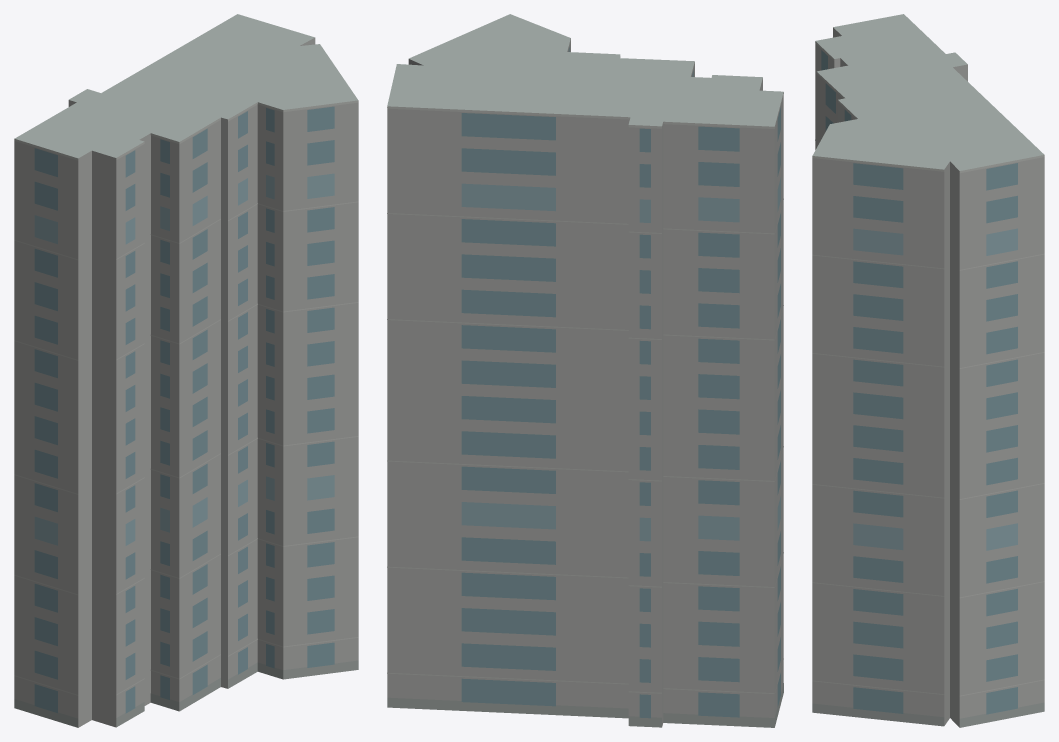
File: survey-upis-32502798.glb
3 renders of one model, left to right at view 1: azimuth 30°, elevation 25°; view 2: azimuth 150°, elevation 25°; view 3: azimuth 270°, elevation 25°, orthographic. The views are drawn at different scales.
Visible parts, largest first — view 1: survey-upis-32502798.tmp; view 2: survey-upis-32502798.tmp; view 3: survey-upis-32502798.tmp.
Boxes of the visible parts, box(x1,y1,x2,y2) form: survey-upis-32502798.tmp: box(14, 14, 358, 727); survey-upis-32502798.tmp: box(387, 14, 783, 727); survey-upis-32502798.tmp: box(812, 14, 1044, 727).
Bounding box in the file's own units: 37.65 × 62.16 × 23.52.
